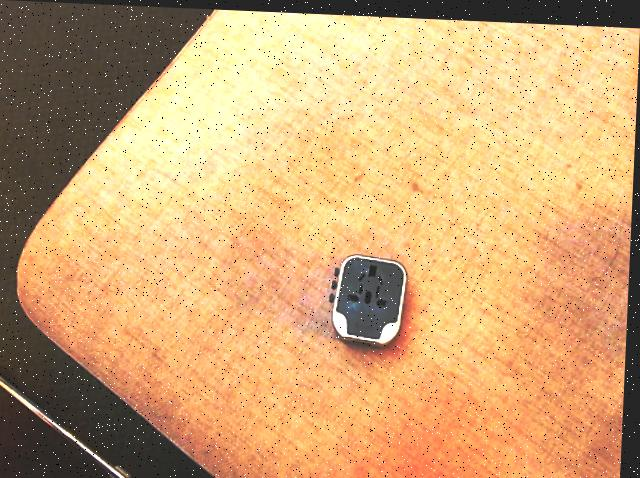adapter: (330, 249, 410, 344)
